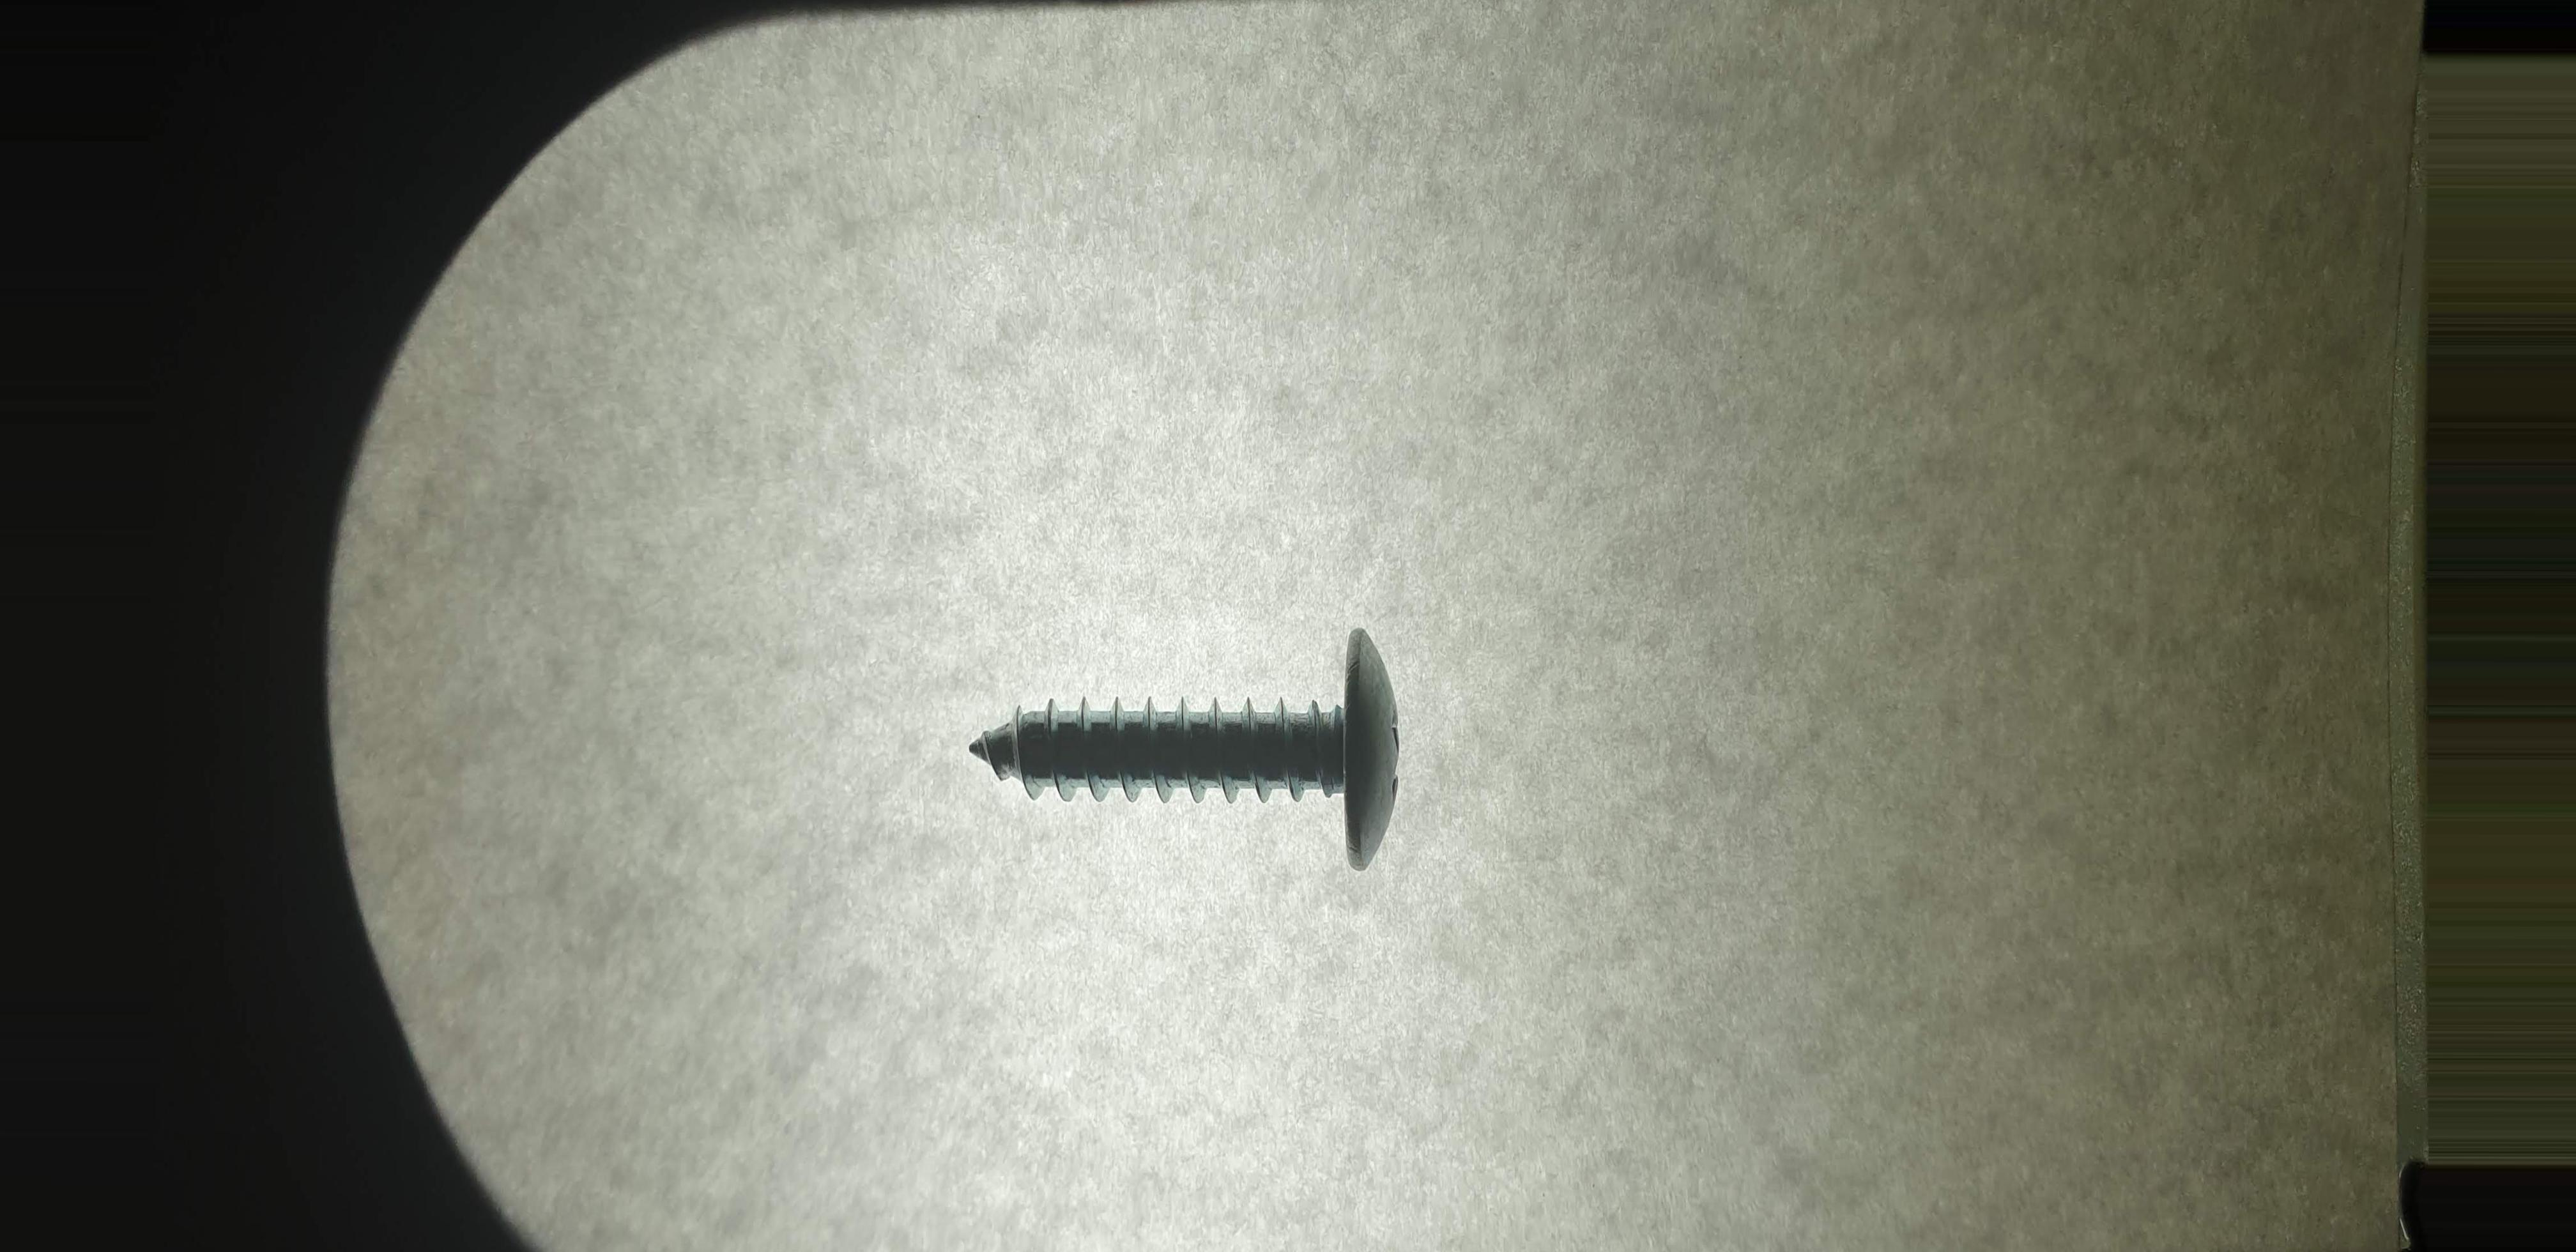S002: (930, 601, 1500, 904)
